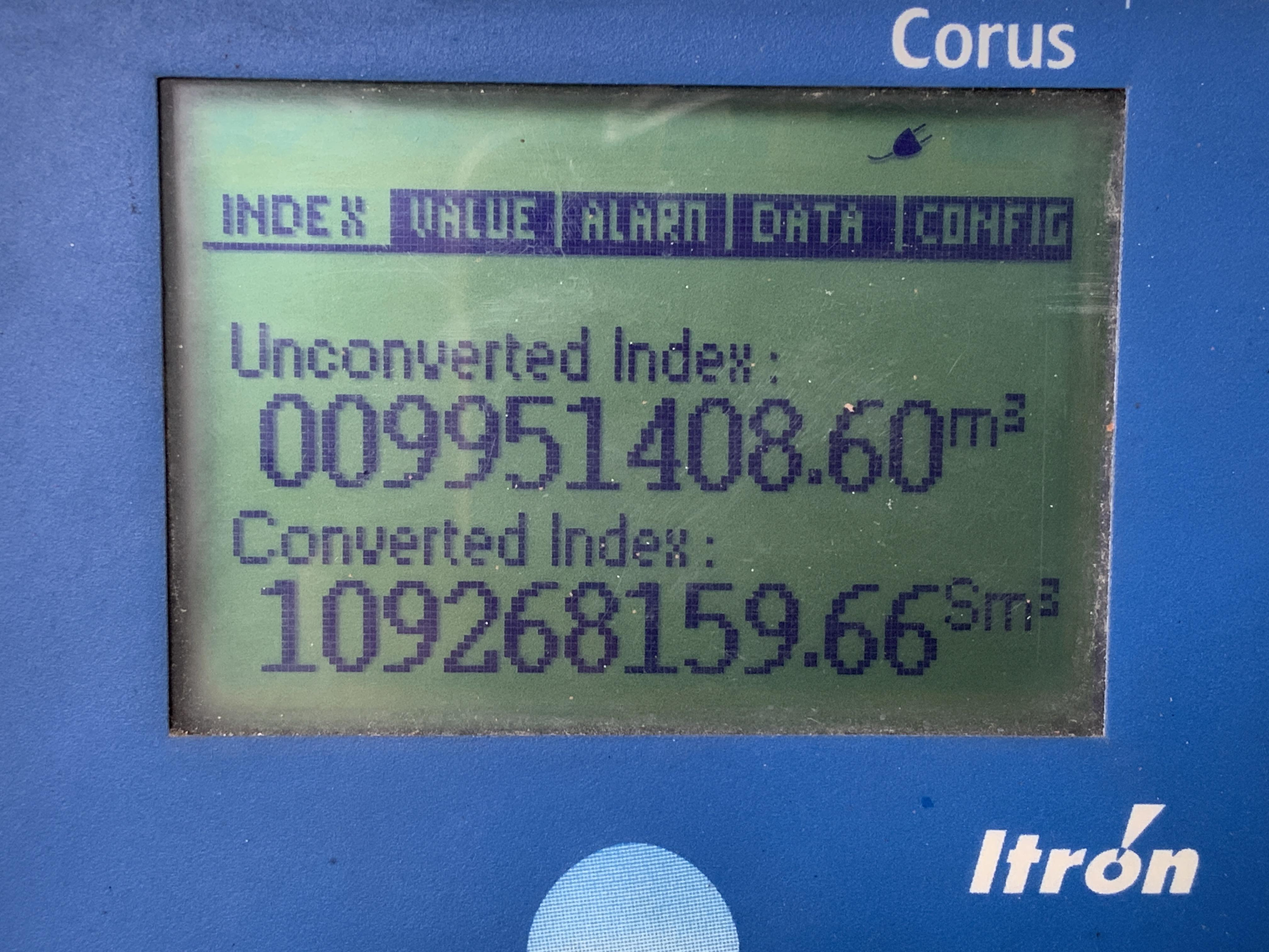digital_screen: (157, 80, 1128, 735)
